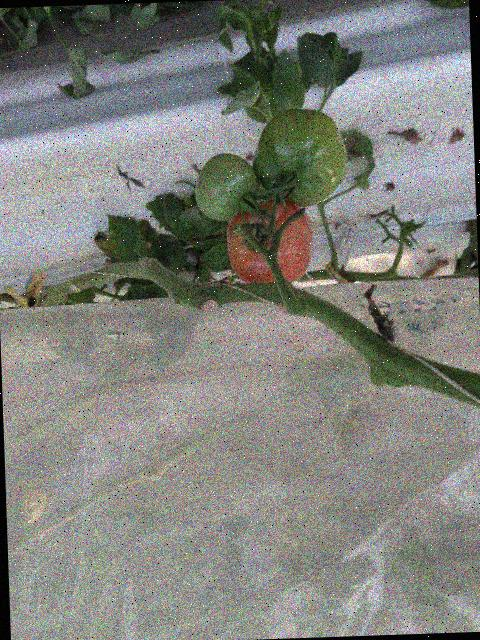b_fully_ripened: (225, 199, 315, 290)
b_green: (251, 107, 349, 210), (194, 152, 263, 222)
